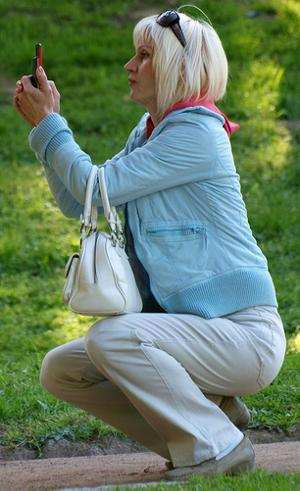person: (14, 13, 287, 485)
